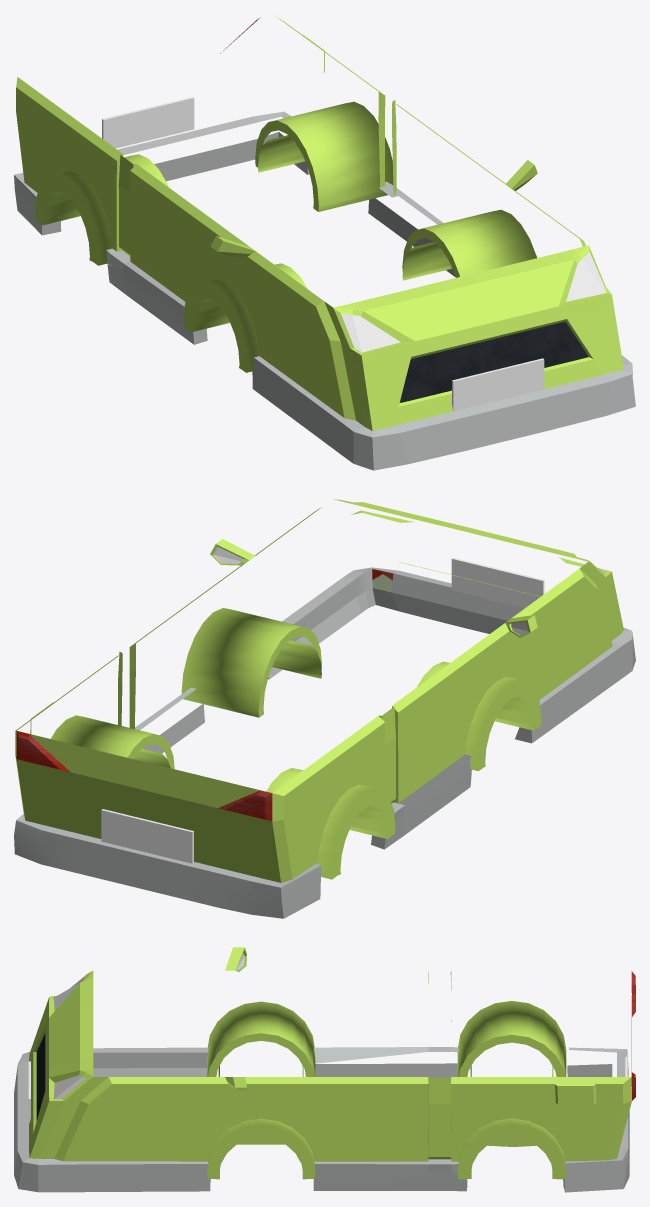
Rendered from SPORT-BOTTOM-HvJkv8HK.glb.
The picture shows the model from 3 angles, top to bottom: view 1: azimuth 30°, elevation 25°; view 2: azimuth 150°, elevation 25°; view 3: azimuth 270°, elevation 25°; orthographic projection. The views are drawn at different scales.
Size of the model in its own units: 1.88 by 0.8189 by 3.71.
Materials: 4 (4 with a texture image).
